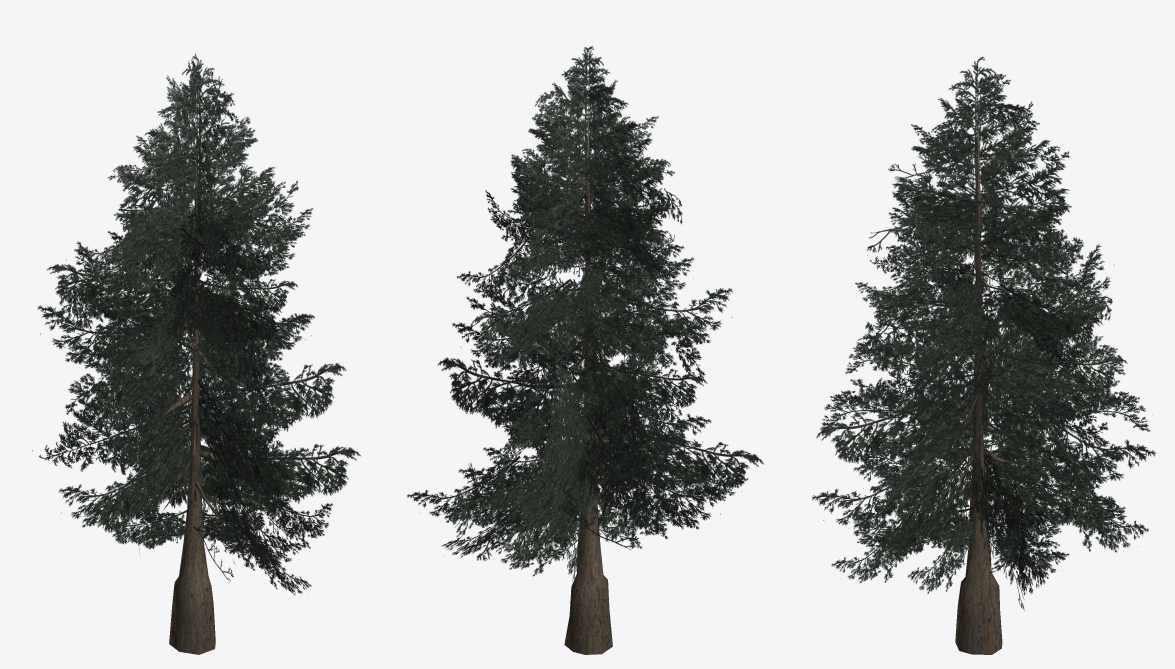
The model's file is forest_oak_2.glb.
The picture shows the model from 3 angles, left to right: view 1: azimuth 30°, elevation 25°; view 2: azimuth 150°, elevation 25°; view 3: azimuth 270°, elevation 25°; orthographic projection.
Parts seen in each view (by area): view 1: Tree_Branches_01.002_Tree_Branches_01_0, Tree_Trunk_01.002_Tree_Trunk_01_0; view 2: Tree_Branches_01.002_Tree_Branches_01_0, Tree_Trunk_01.002_Tree_Trunk_01_0; view 3: Tree_Branches_01.002_Tree_Branches_01_0, Tree_Trunk_01.002_Tree_Trunk_01_0.
Part boxes in pixels (bbox=[...]): Tree_Branches_01.002_Tree_Branches_01_0: bbox=[32, 53, 360, 595]; Tree_Trunk_01.002_Tree_Trunk_01_0: bbox=[147, 114, 229, 654]; Tree_Branches_01.002_Tree_Branches_01_0: bbox=[407, 46, 763, 581]; Tree_Trunk_01.002_Tree_Trunk_01_0: bbox=[554, 104, 628, 654]; Tree_Branches_01.002_Tree_Branches_01_0: bbox=[812, 57, 1155, 610]; Tree_Trunk_01.002_Tree_Trunk_01_0: bbox=[937, 109, 1021, 654].
Bounding box in the file's own units: 5.03 × 9.23 × 5.03.
Materials: 2 (2 with a texture image).
